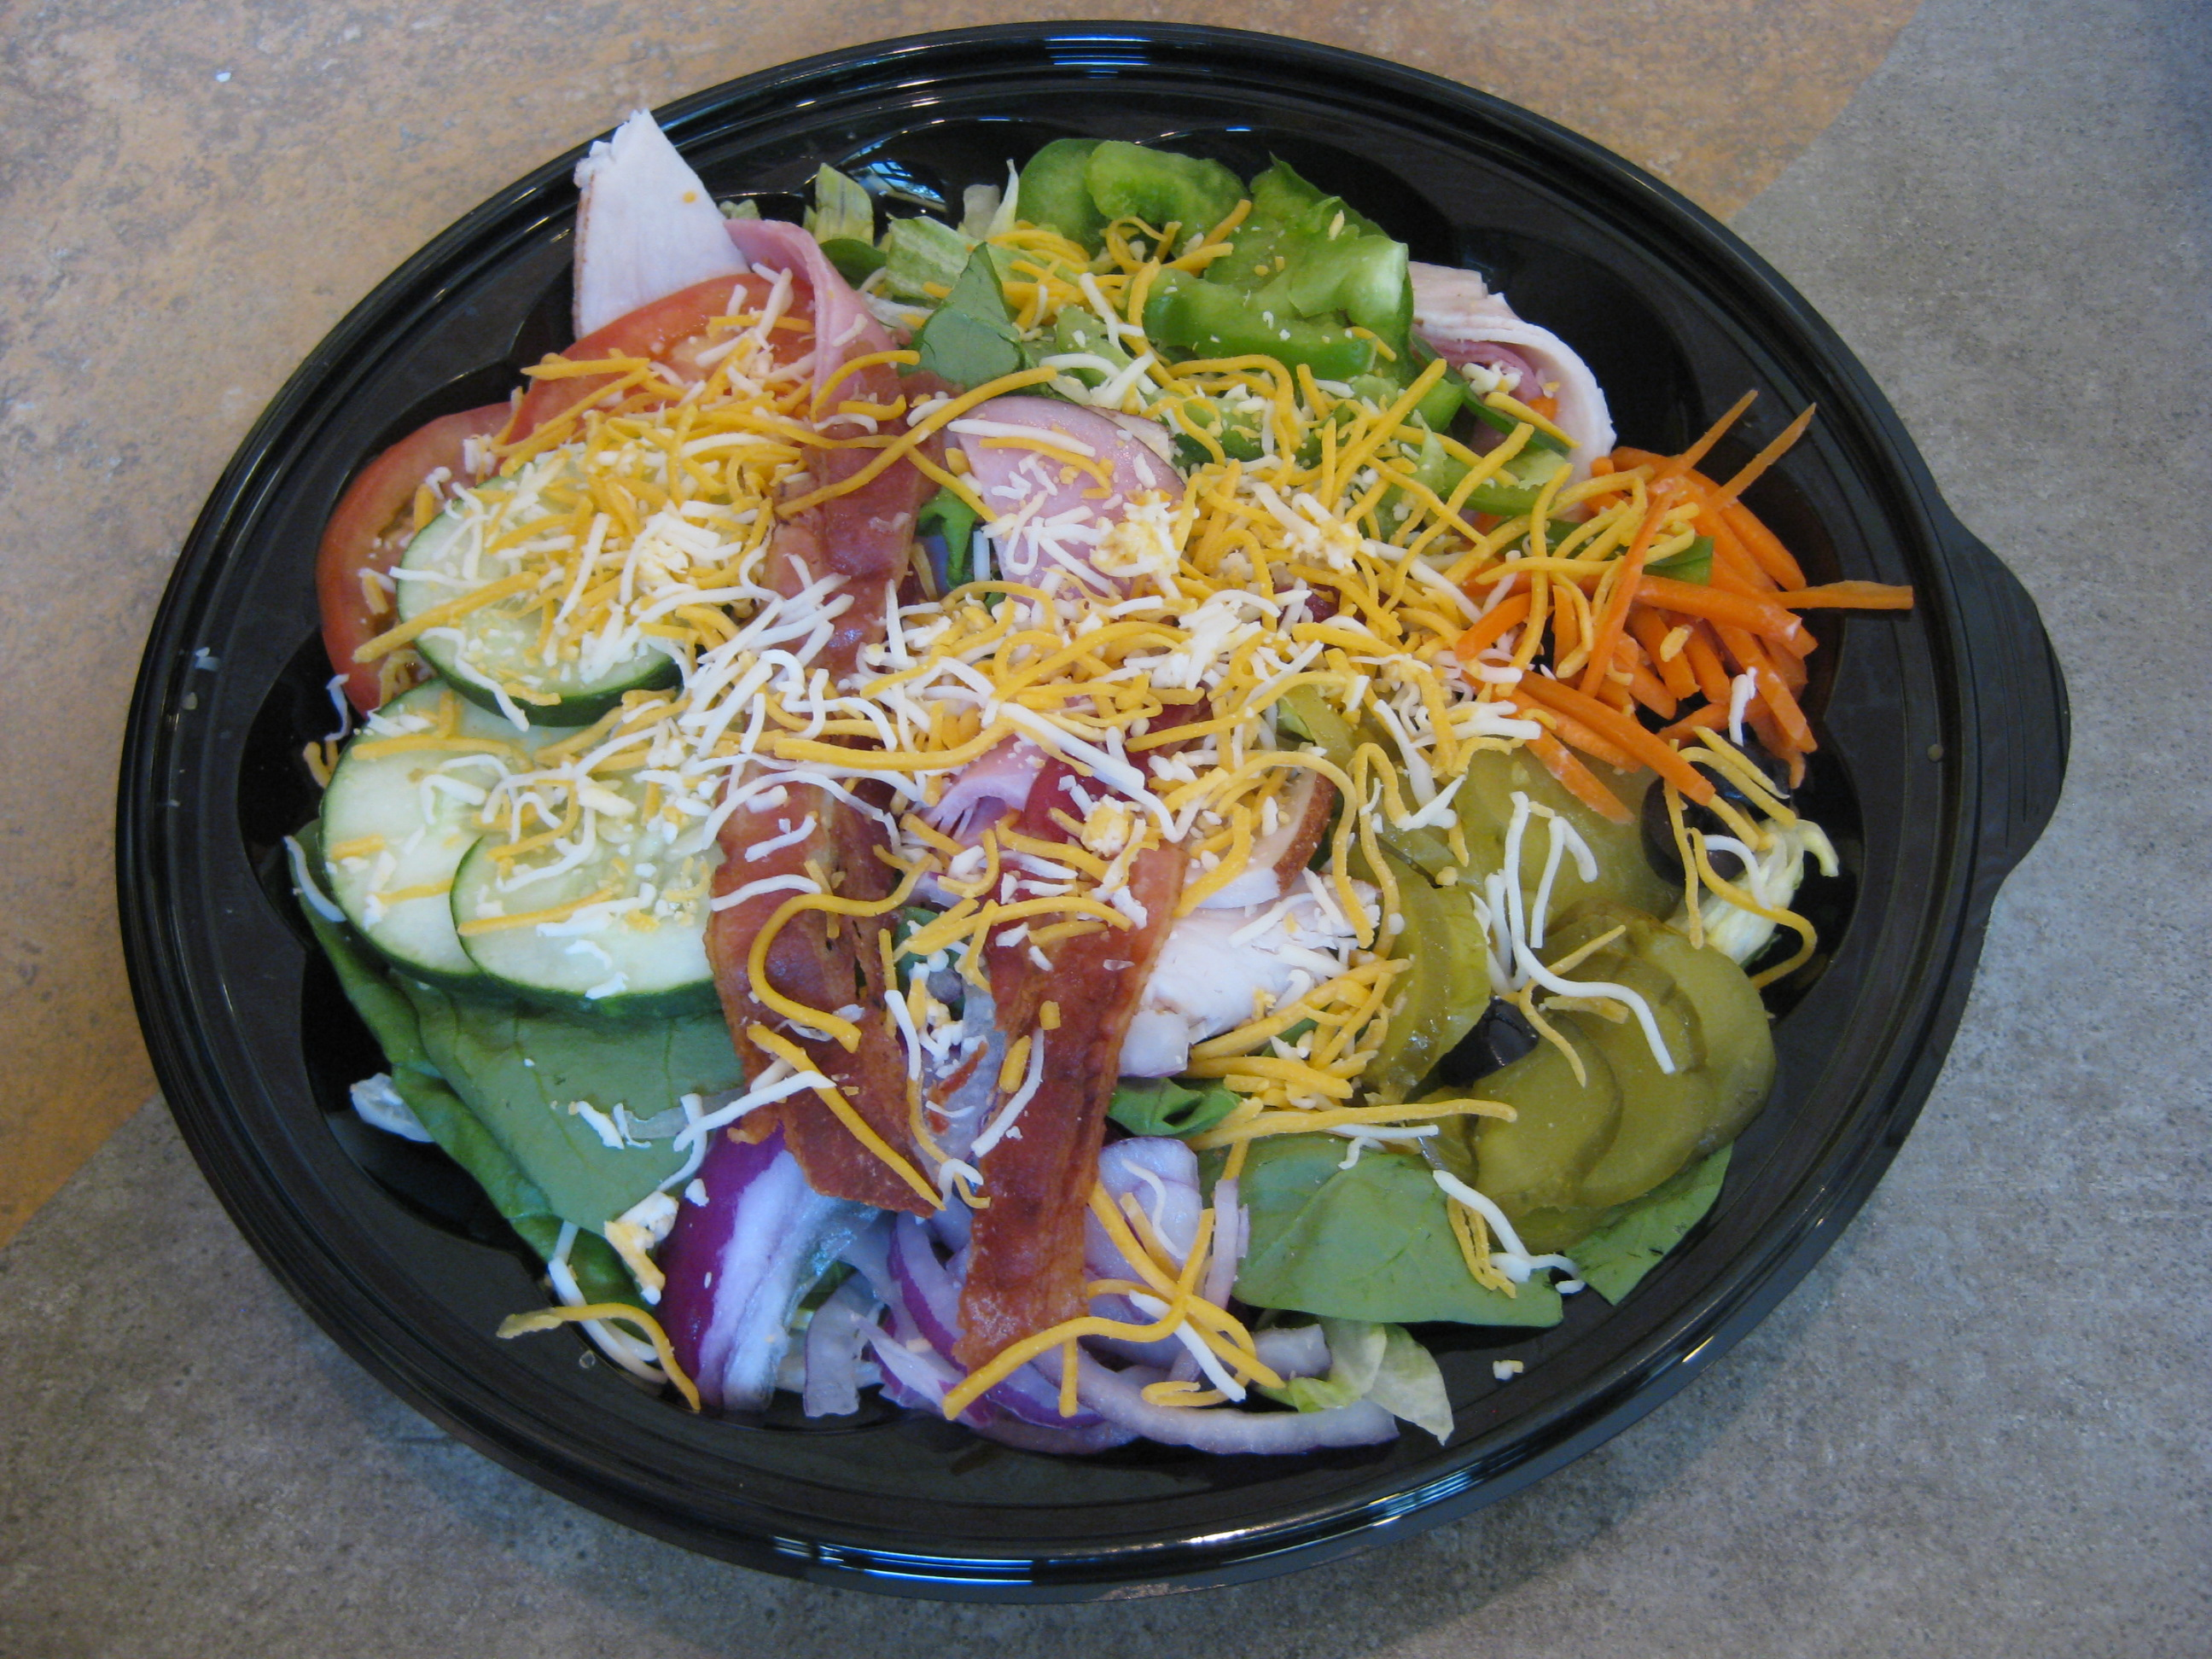salad: (302, 176, 1855, 1470)
